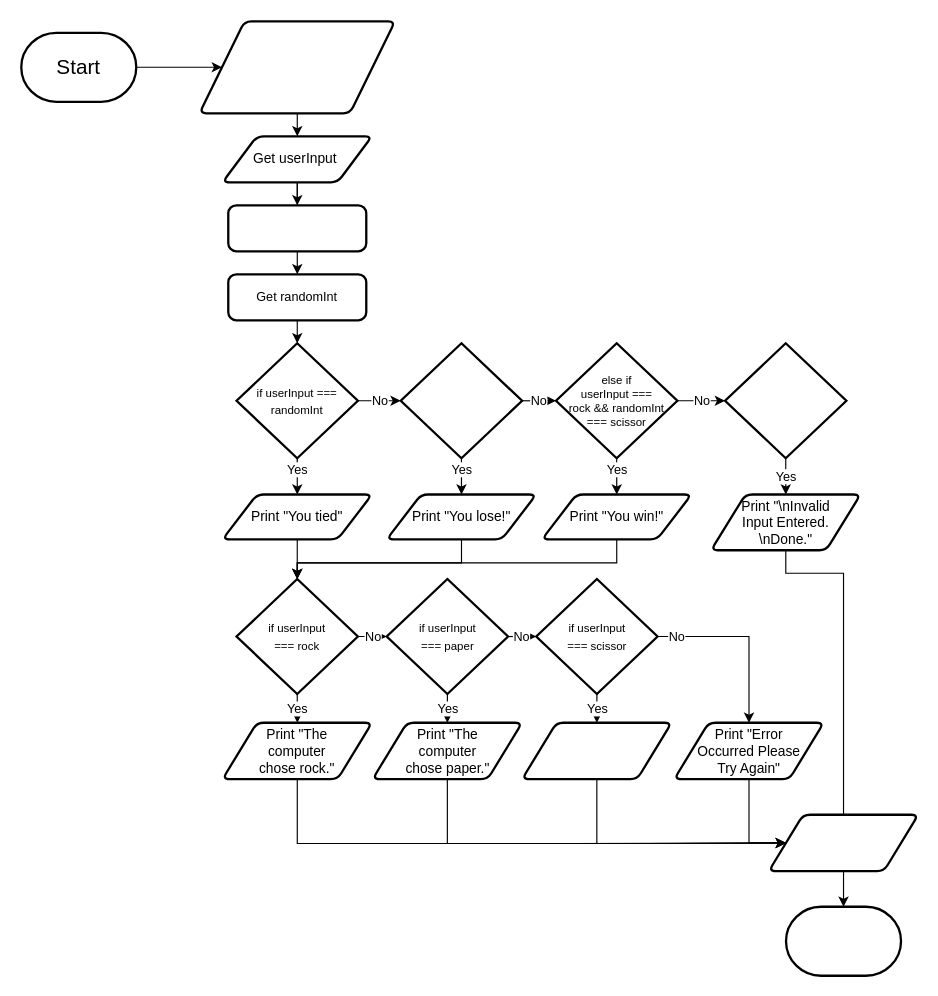
Some shapes in this 938 by 996 pixel diagram are drawn without their labels. The shapes that lost their labels are listed below. From the top down, each one's centre as x and y in pixels, then its label:
[297,67]: Print " Let's play Rock, Paper, Scissors! \n Rock (1)\nPaper (2) \nScissors (3)"
[297,228]: Co nvert userInput to integer
[461,400]: else if userInput === rock && randomInt === paper
[785,400]: else if... else if... else if... else
[596,750]: Print "The computer chose scissors."
[843,842]: Print "\nDone."
[843,940]: Stop
